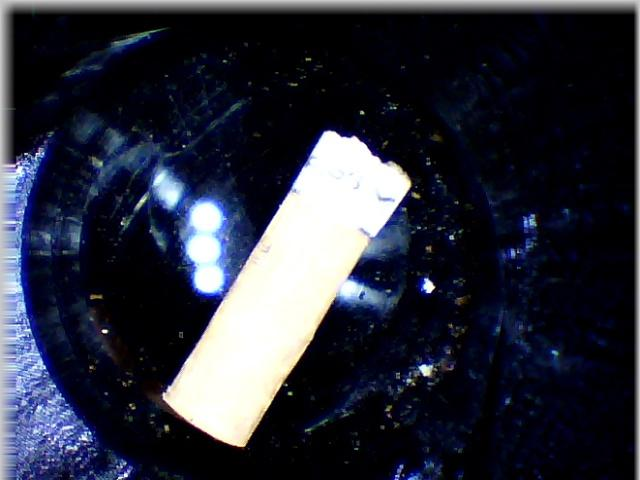megot: (143, 128, 418, 453)
